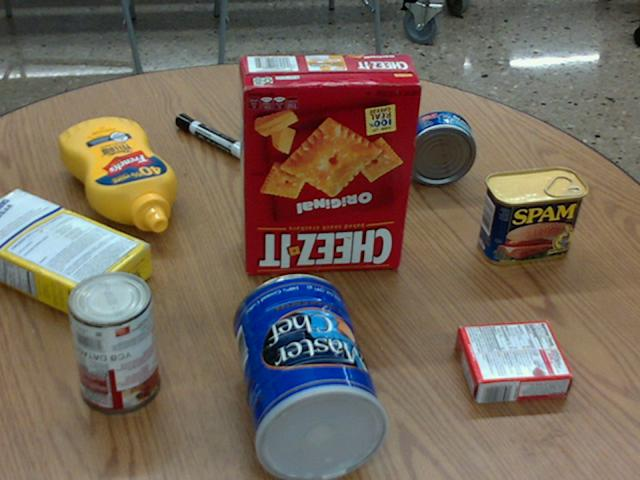cracker_box: (236, 52, 422, 274)
gelatin_box: (454, 319, 573, 401)
large_marker: (175, 114, 250, 159)
master_chef_can: (233, 273, 390, 479)
mug: (259, 58, 350, 147)
mustard_bottle: (59, 117, 176, 231)
potted_meat_can: (477, 166, 586, 266)
sugar_box: (0, 185, 151, 324)
tomato_soup_can: (67, 269, 161, 412)
tuna_fish_can: (399, 110, 475, 184)
